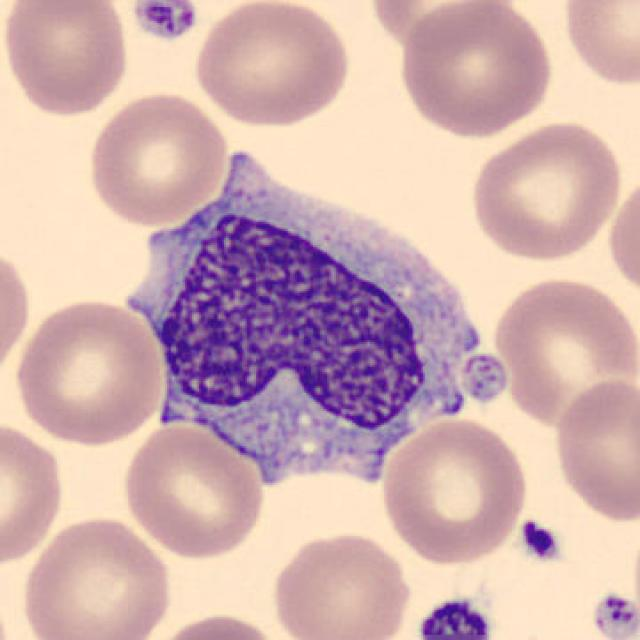Monocyte: (119, 152, 509, 504)
Platelets: (412, 594, 496, 640), (128, 0, 202, 42), (588, 589, 640, 640), (460, 352, 510, 403), (518, 518, 564, 564)
RBC: (11, 294, 167, 448), (377, 414, 533, 566), (487, 272, 638, 428), (466, 116, 626, 263), (394, 0, 556, 139), (188, 0, 356, 129), (119, 420, 269, 560), (84, 86, 231, 228), (18, 513, 176, 640), (267, 527, 414, 640), (0, 0, 133, 118), (550, 374, 638, 525), (0, 414, 68, 572), (556, 0, 638, 90), (366, 0, 505, 53), (604, 168, 640, 304), (0, 242, 34, 384), (144, 610, 288, 640)
